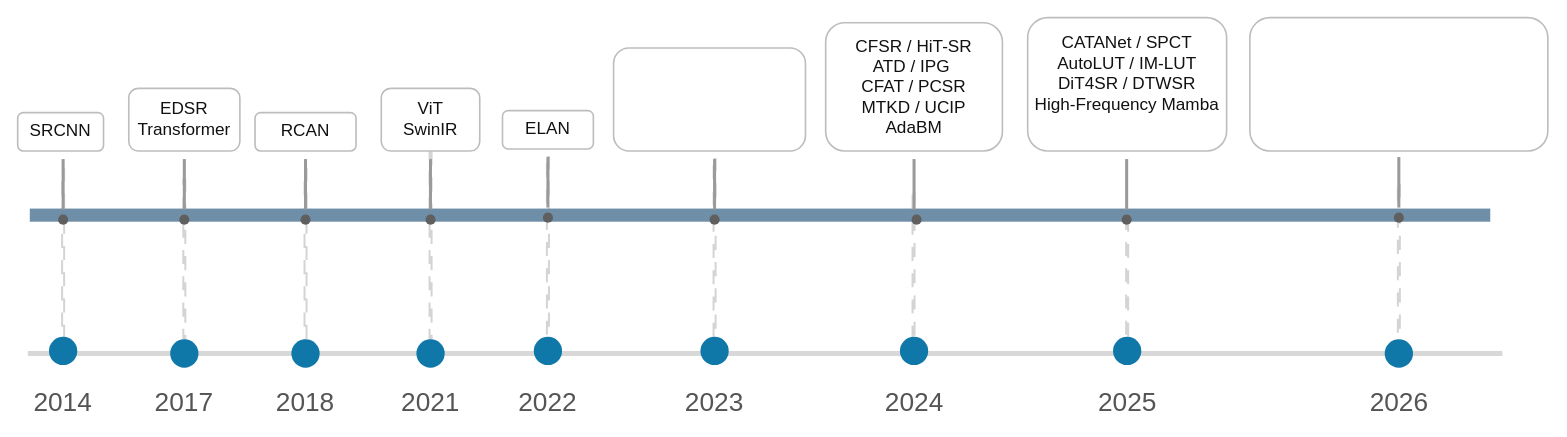
Some shapes in this 1567 by 437 pixel diagram are drawn without their labels. Here are the shapes that lost their labels. From the top down, the centre of each, then its label:
the point at 709,99: HAT / DAT / CRAFT NGswin / Omni-SR SPIN
the point at 1398,83: SAT / PFANet PII-SR AlignVAR FiDeSR Shifted Pooling Cross- Aggregation
